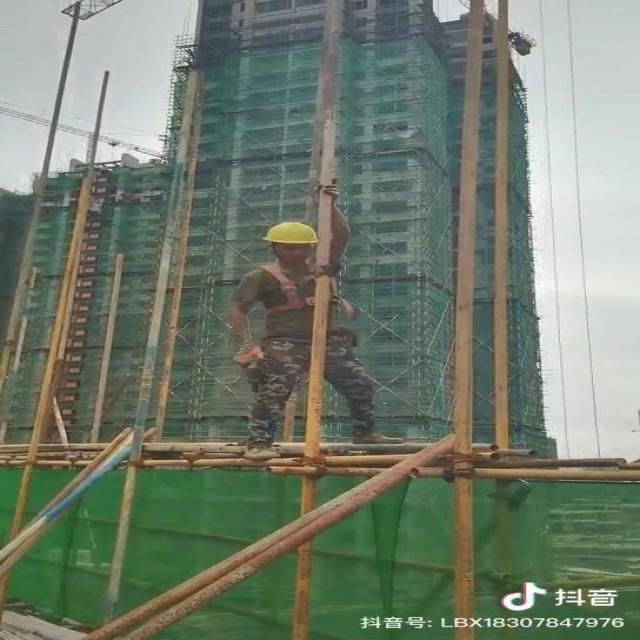Arnes_seguridad: (232, 262, 355, 330)
